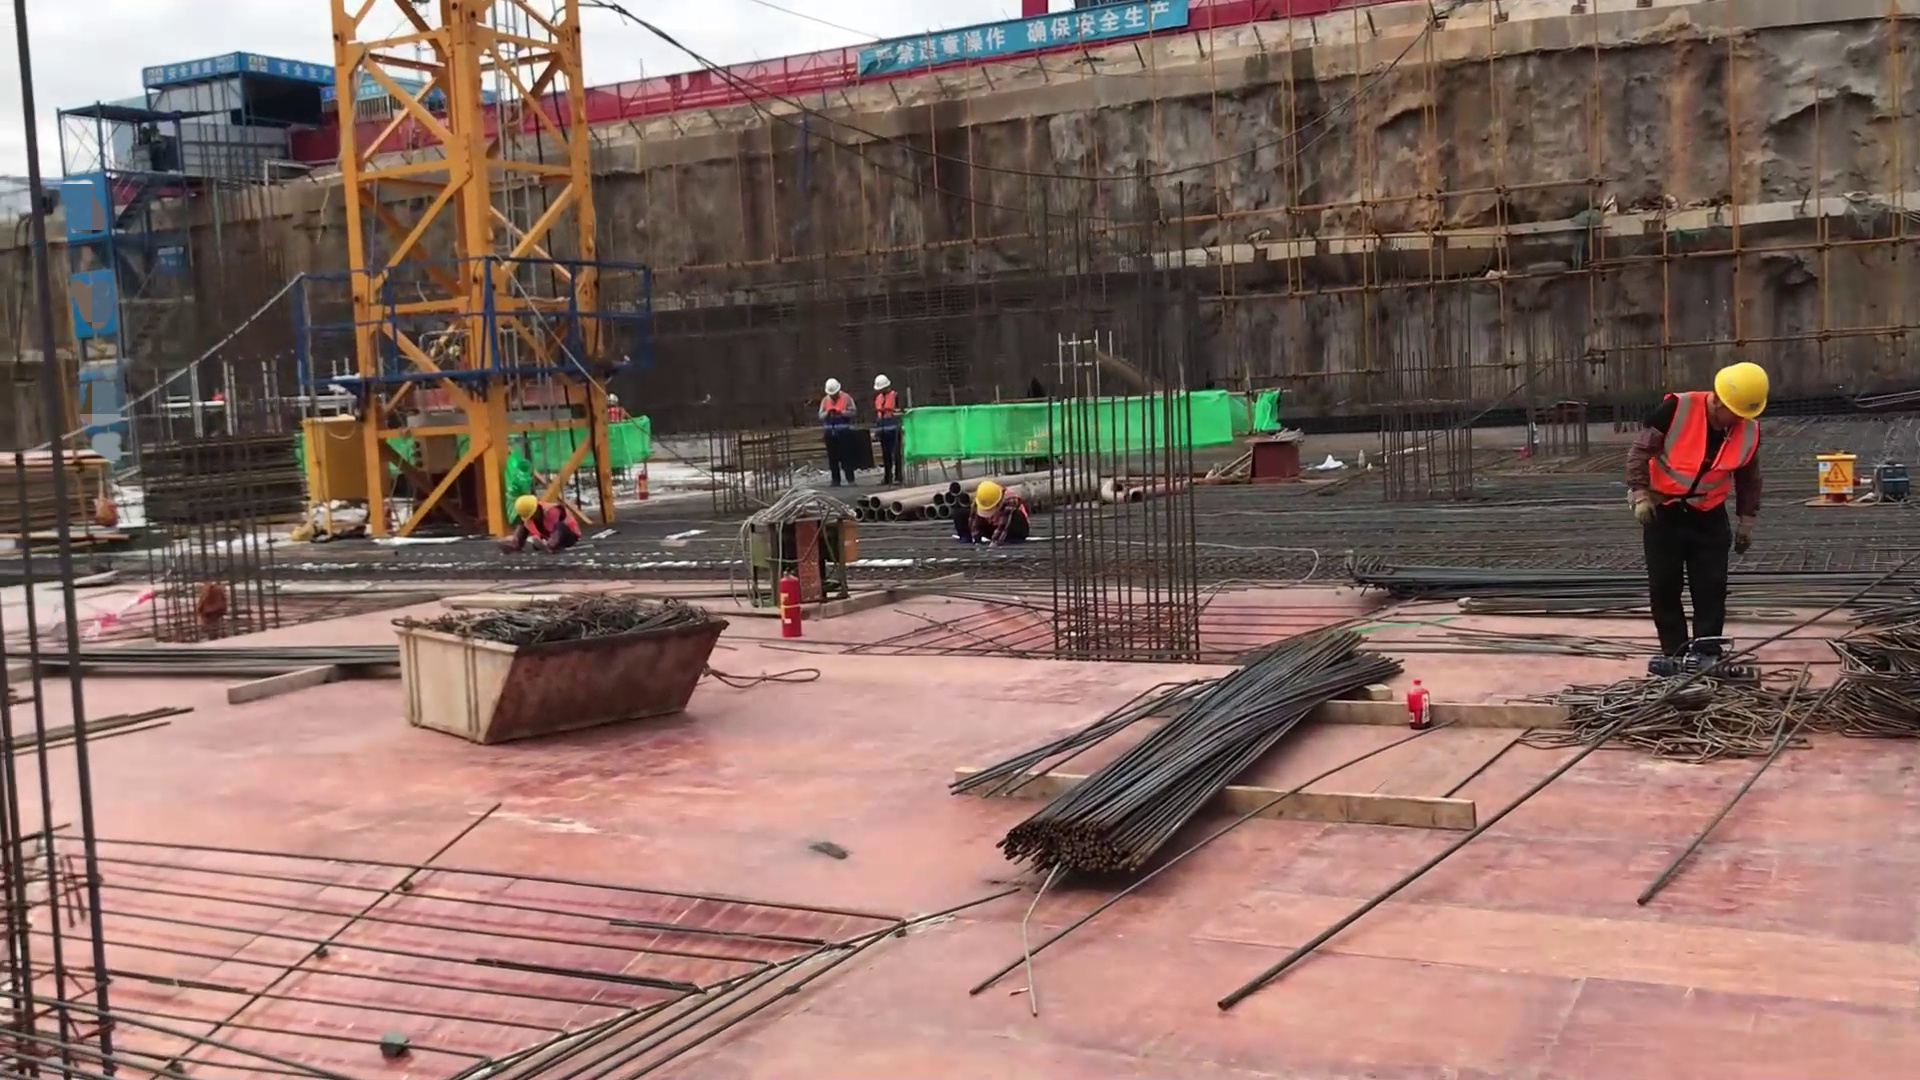ebox: (301, 412, 372, 538), (1810, 445, 1864, 504), (407, 414, 459, 474)
helmet: (1712, 361, 1768, 418), (975, 481, 1003, 509), (515, 495, 539, 521), (824, 378, 841, 395), (873, 374, 890, 391)
hopper: (388, 590, 736, 750)
person: (1623, 359, 1769, 657), (951, 479, 1030, 553), (499, 495, 582, 554), (816, 376, 859, 488), (871, 373, 905, 487)
rebar: (1010, 633, 1400, 883)
slogan: (859, 1, 1187, 76), (239, 53, 334, 85)
vest: (1648, 391, 1758, 513), (526, 504, 580, 550), (822, 394, 851, 437), (874, 392, 898, 431)
